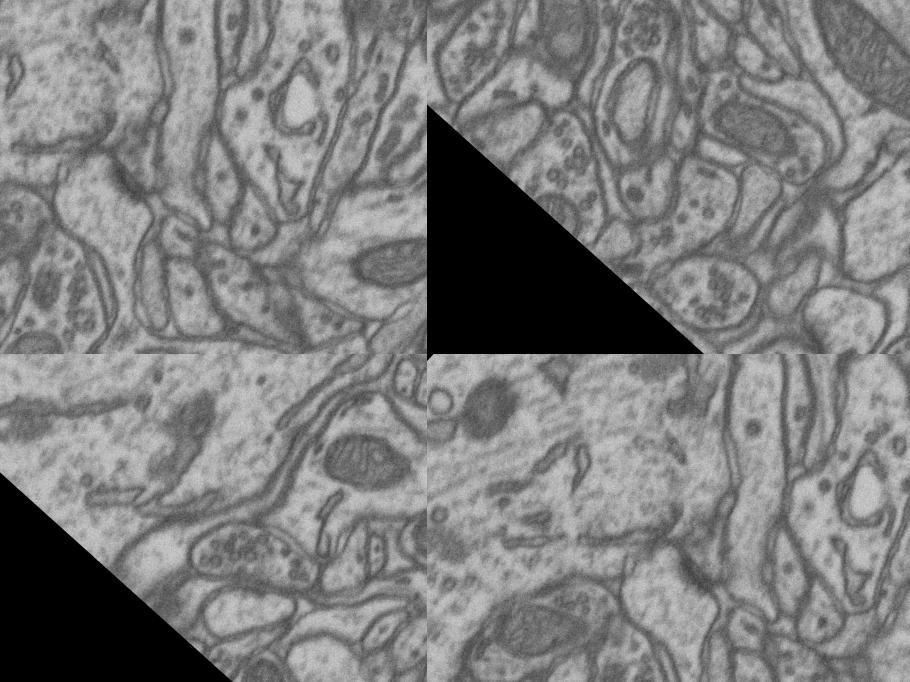mitochondria: (773, 0, 910, 158), (294, 394, 427, 528), (468, 564, 603, 682), (698, 77, 809, 186), (333, 198, 427, 324), (437, 361, 538, 463), (498, 0, 622, 79), (0, 172, 36, 307), (530, 175, 600, 242), (138, 568, 206, 634), (0, 304, 84, 354), (226, 636, 313, 682), (385, 490, 427, 580)
